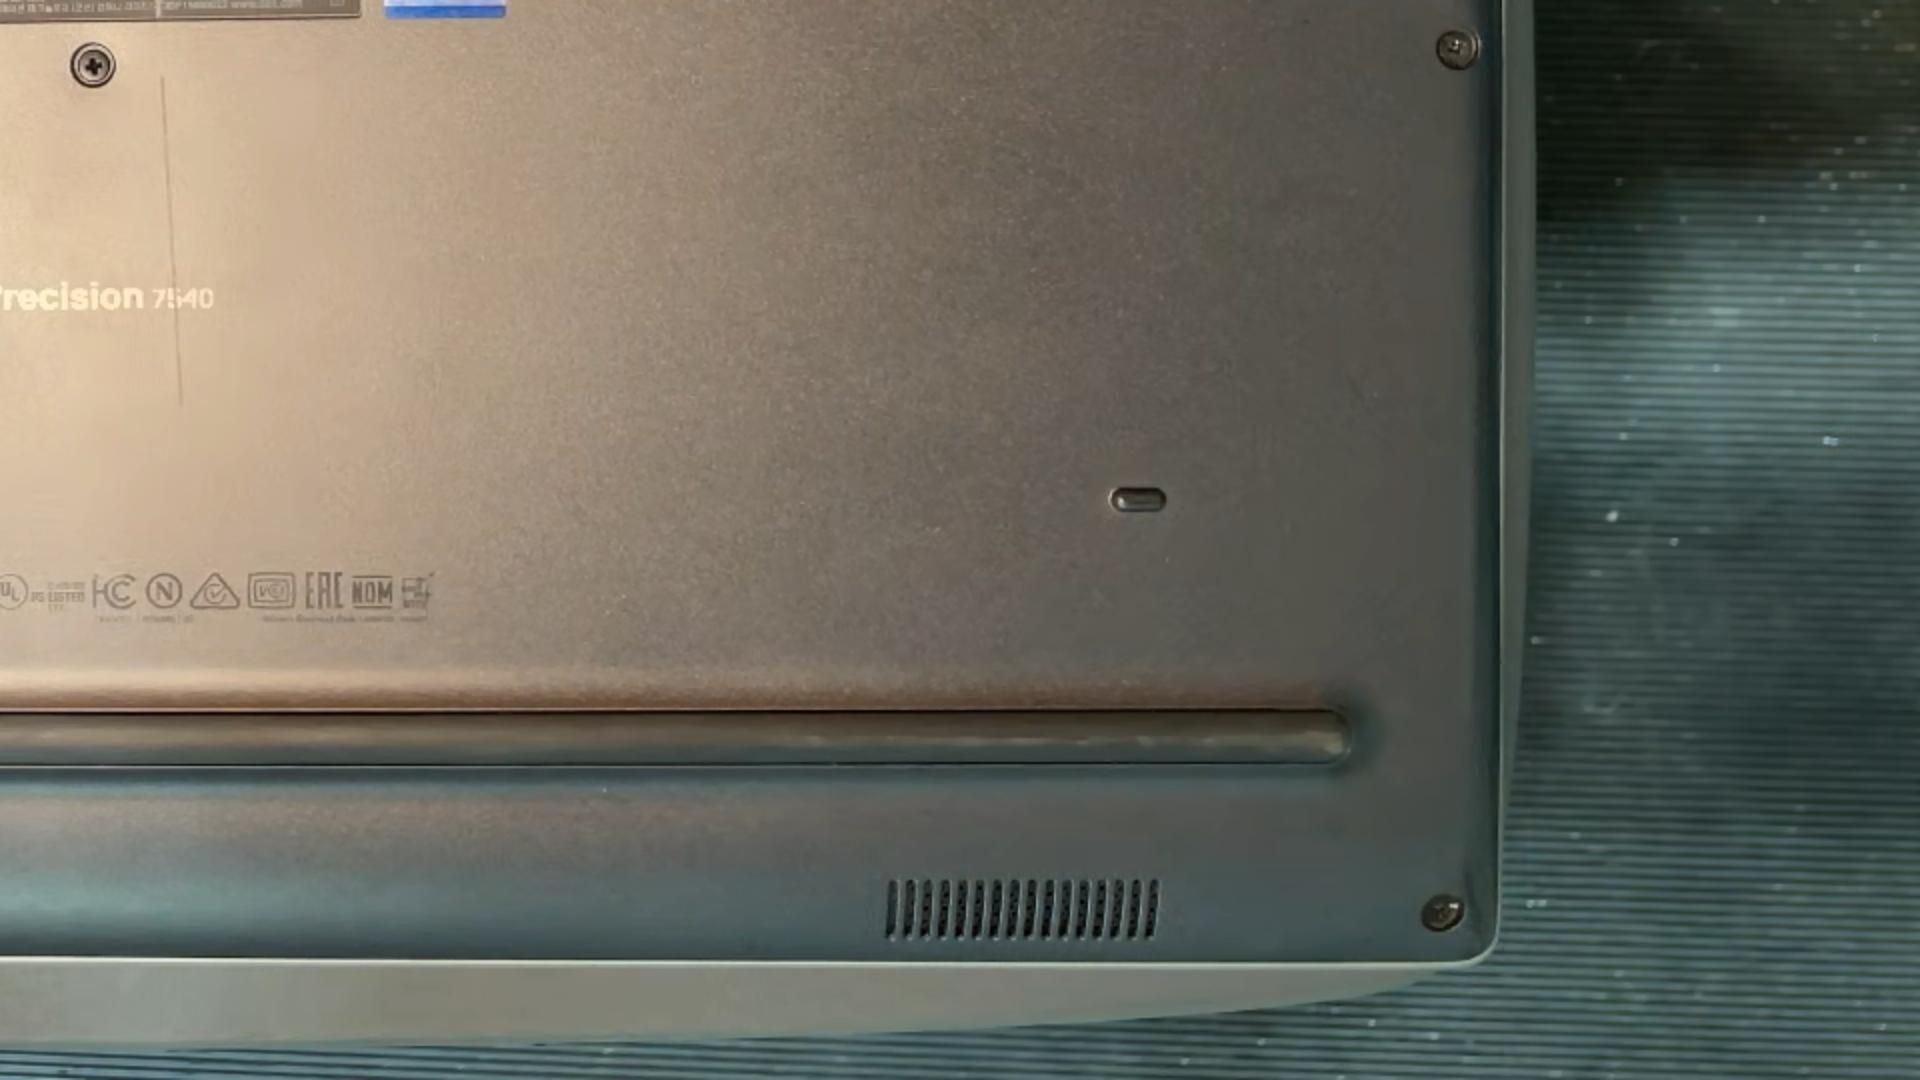scratches: (158, 71, 188, 411)
